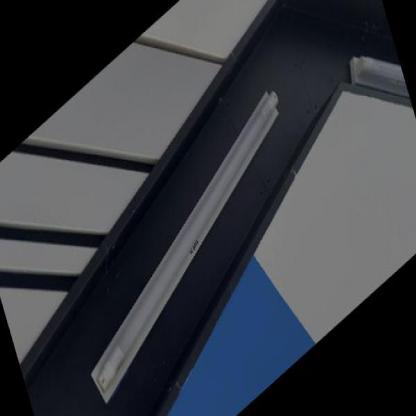light_off: (53, 61, 321, 414), (334, 0, 416, 165)
